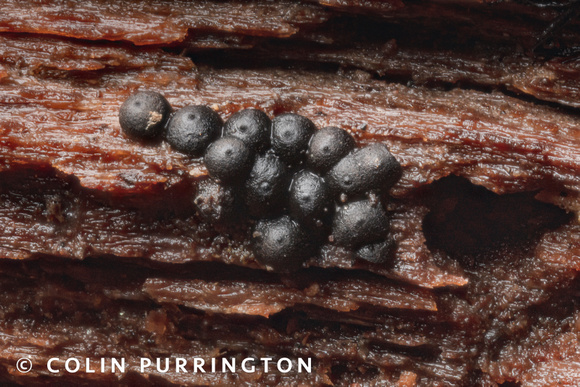pudricion radicular: (22, 11, 514, 354)
